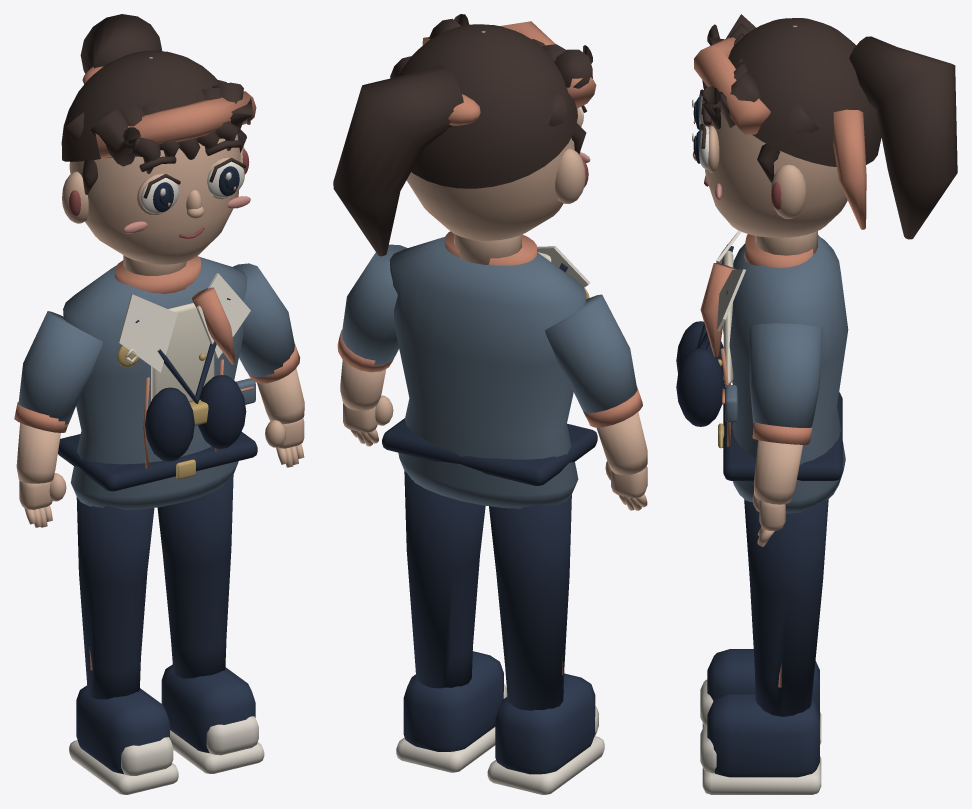
The model's file is npc_pirateshore_trainer_4.glb.
3 renders of one model, left to right at view 1: azimuth 30°, elevation 25°; view 2: azimuth 150°, elevation 25°; view 3: azimuth 270°, elevation 25°, orthographic. The views are drawn at different scales.
Visible parts, largest first — view 1: figure.045; view 2: figure.045; view 3: figure.045.
Part boxes in pixels (x1,y1,x2,y2): figure.045: (14, 14, 304, 794); figure.045: (333, 14, 647, 794); figure.045: (676, 14, 957, 794).
Size of the model in its own units: 0.6761 by 1.58 by 0.5486.
